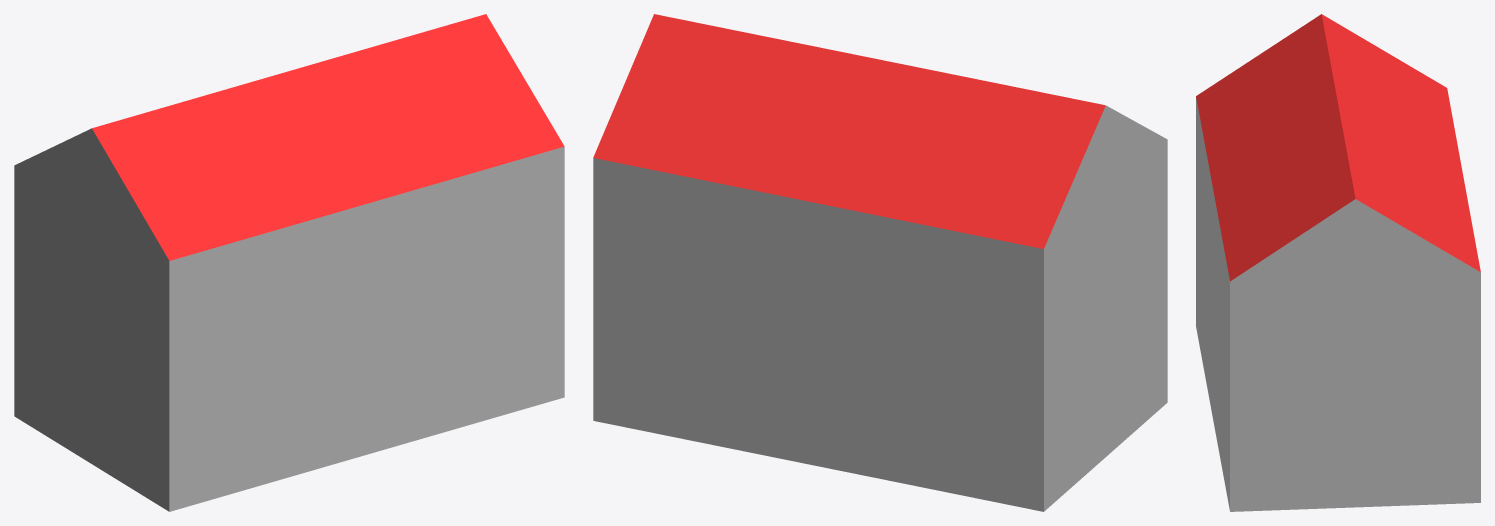
Rendered from DEBY_LOD2_4729650.dae.
3 renders of one model, left to right at view 1: azimuth 30°, elevation 25°; view 2: azimuth 150°, elevation 25°; view 3: azimuth 270°, elevation 25°, orthographic. The views are drawn at different scales.
Bounding box in the file's own units: 18.44 × 11.47 × 13.7.
